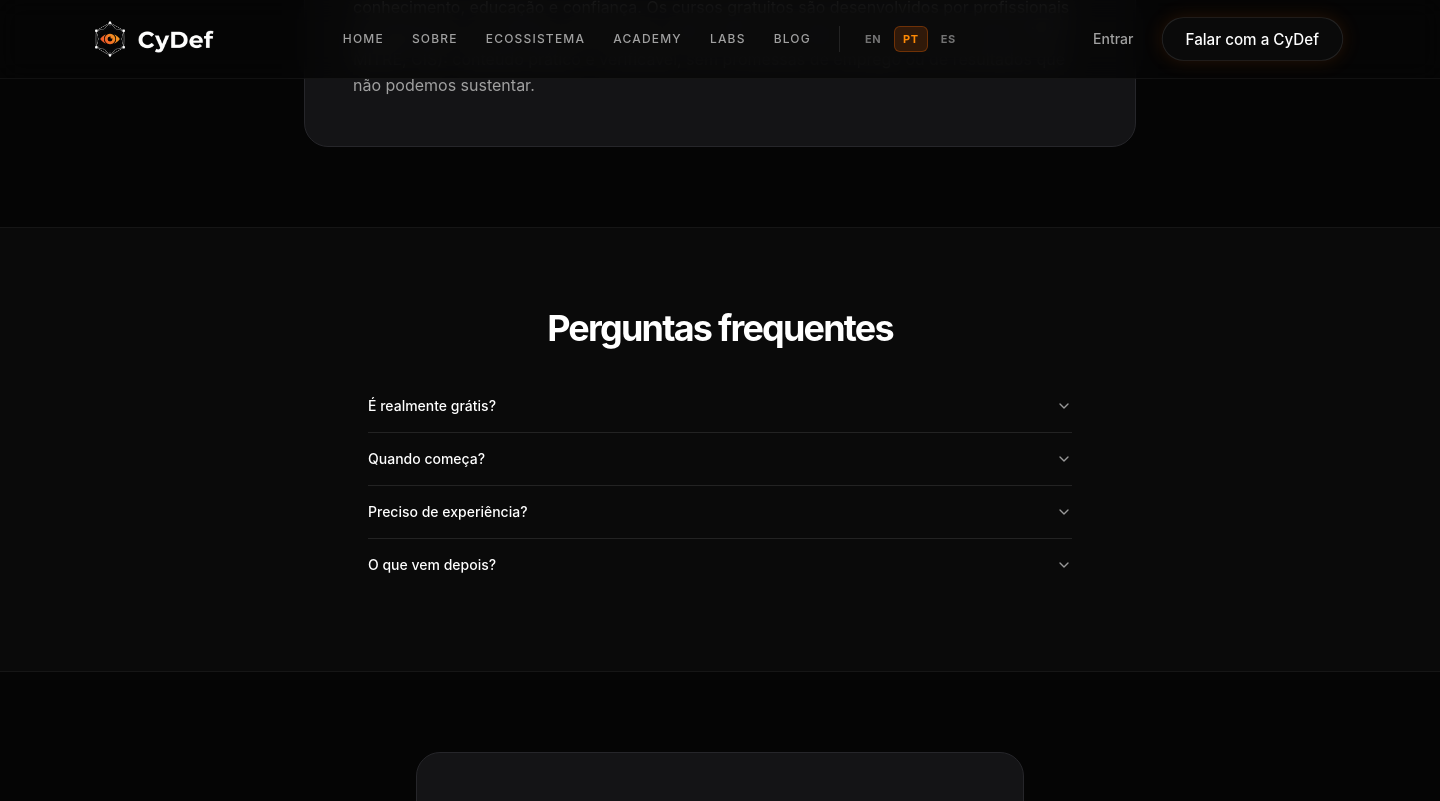
Test: AcademyLanding (S-02) › FAQ acessível por teclado (botões com aria-expanded)
The width and height of the screenshot is (1440, 801).
(page scrolled)
Click the button "É realmente grátis?". click: (432, 405)
box: [368,380,1072,432]
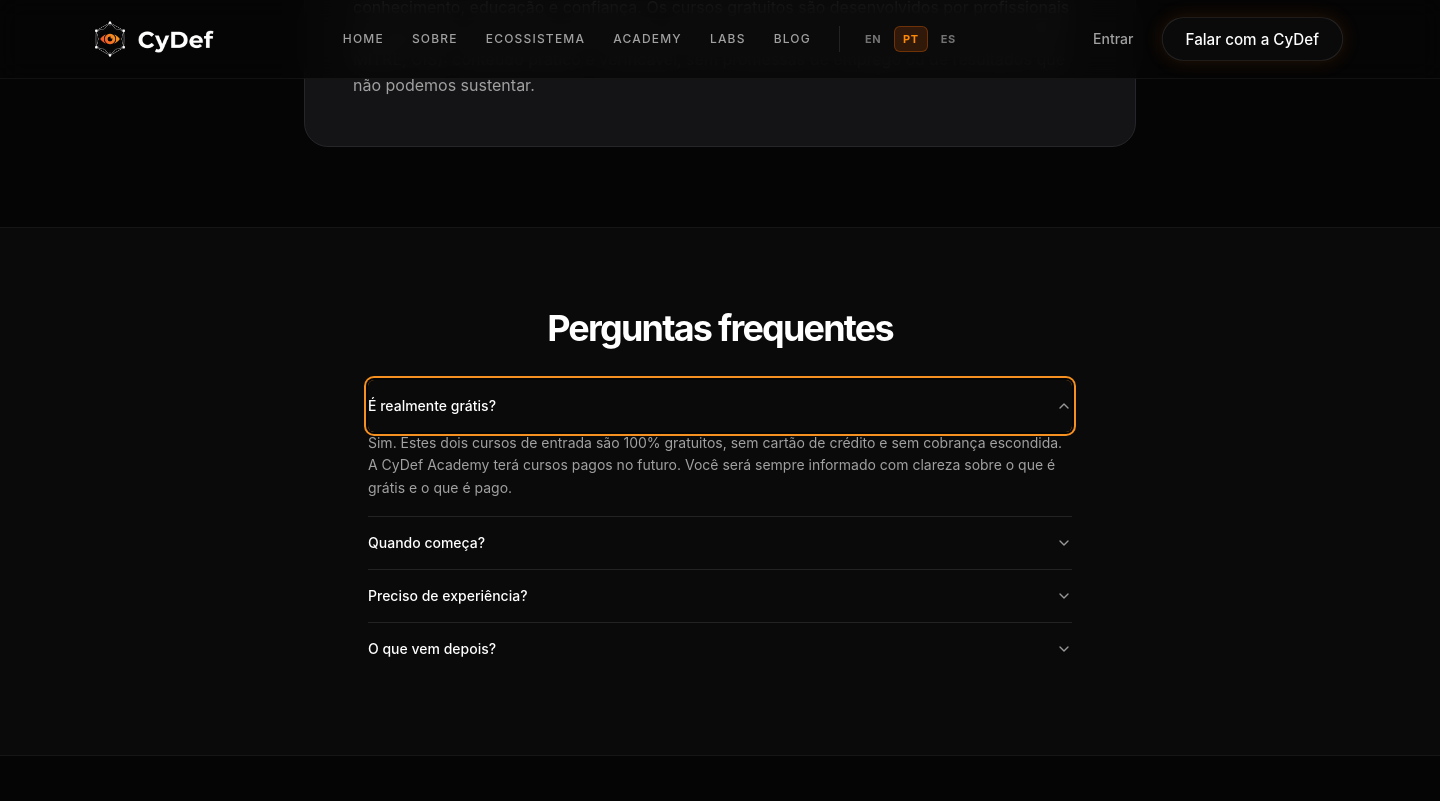
Result: the button "É realmente grátis?" is expanded at [368,380,1072,432]
Result: the text "100% gratuitos, sem cartão" is shown at [368,434,1062,496]
